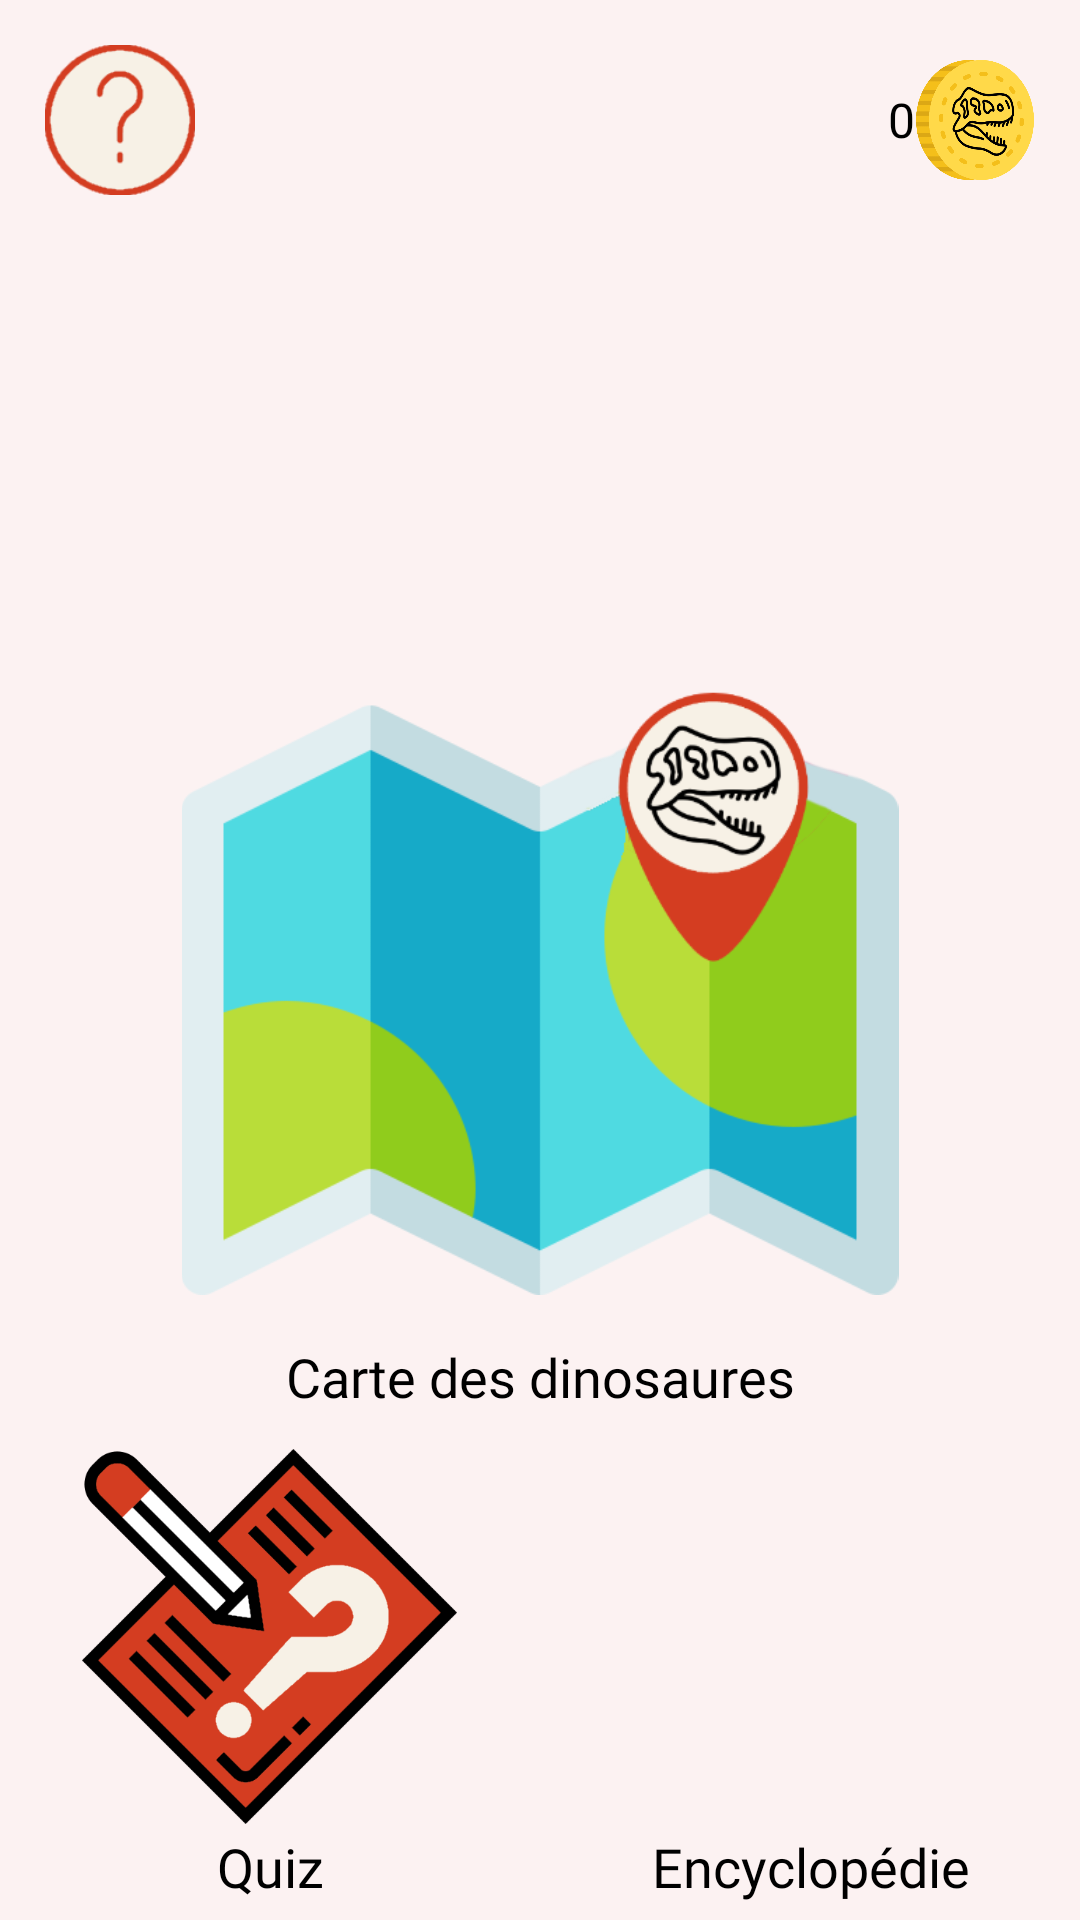

Where icons sit on this 1080 × 1920 app screen, as {"left": x1, "top": y1, "right": x2, "bottom": y2}:
btninterrogation: {"left": 45, "top": 45, "right": 195, "bottom": 195}
coin: {"left": 916, "top": 60, "right": 1034, "bottom": 180}
